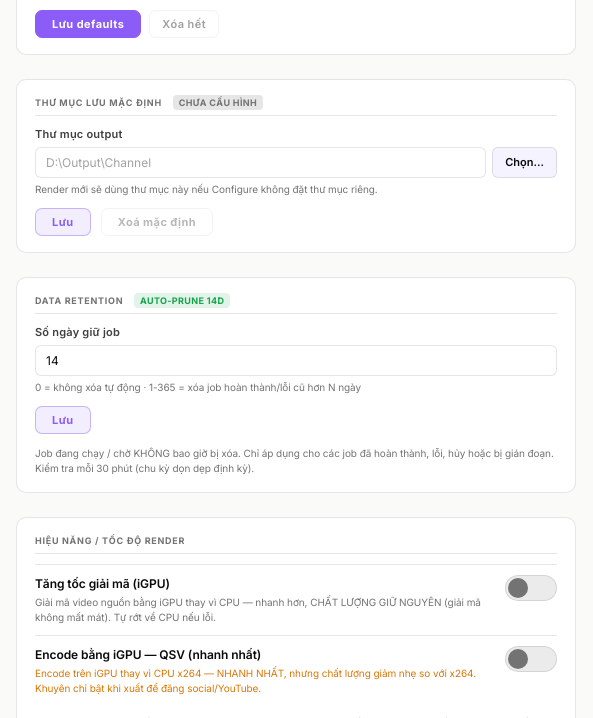
SettingsScreen — Data Retention form › shows the disabled status message when saving 0
(page scrolled)
Replace the text in the number field with test id "dr-job-retention-days" with "0" at {"x": 296, "y": 360}, box 35,344 -> 557,376
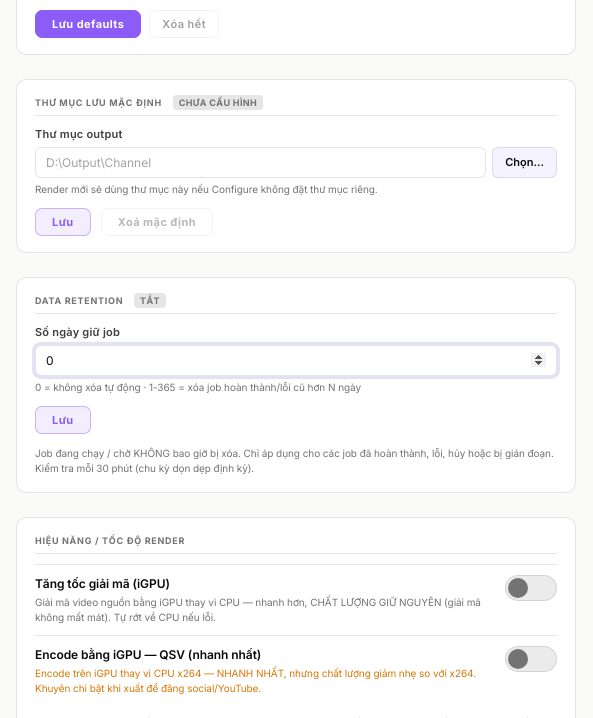
Click the button with test id "dr-save" at {"x": 63, "y": 420}, box 35,406 -> 91,434
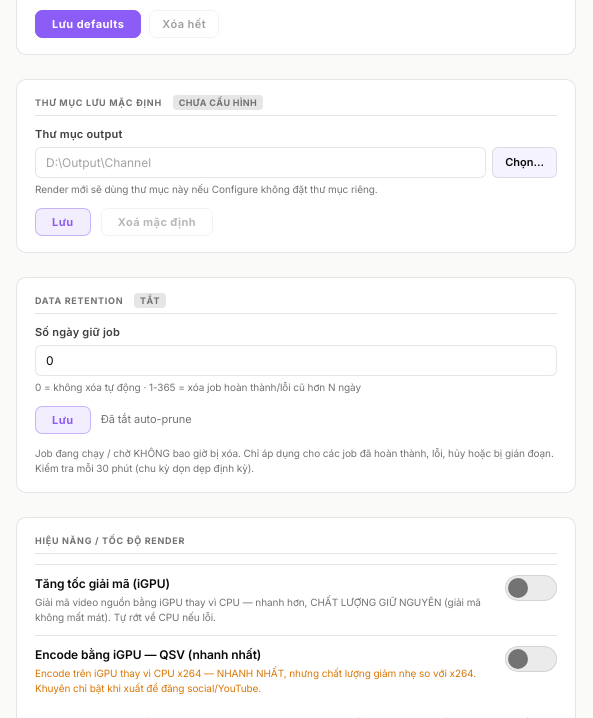
Expected: the text with test id "dr-status" shows "tắt auto-prune", 101,412 -> 192,426
